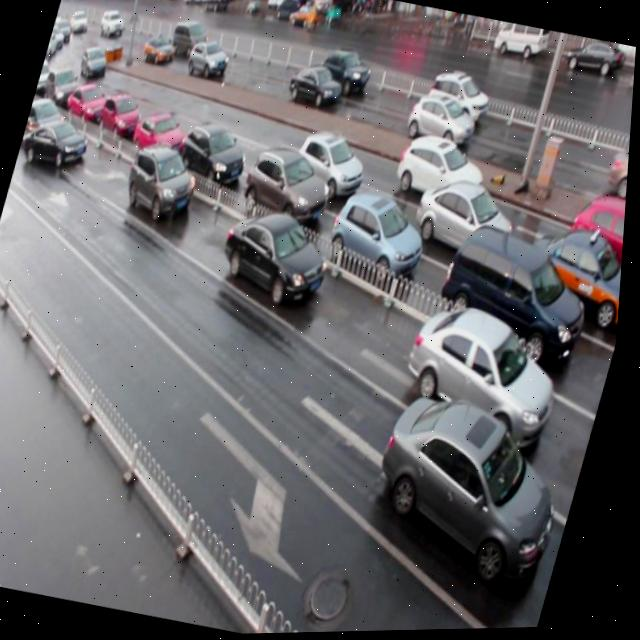car: (360, 383, 589, 595), (394, 295, 581, 461), (213, 199, 343, 317), (516, 224, 628, 341), (321, 187, 438, 298), (408, 172, 527, 277), (238, 140, 342, 235), (391, 129, 496, 220), (119, 139, 206, 229), (287, 125, 377, 206), (173, 118, 257, 195), (563, 190, 629, 286), (402, 91, 483, 158), (17, 111, 97, 177), (423, 69, 495, 132), (128, 104, 196, 169), (315, 47, 376, 100), (96, 88, 151, 145), (285, 63, 345, 114), (21, 95, 72, 153), (61, 76, 111, 132), (183, 37, 232, 86), (42, 62, 85, 113), (603, 142, 632, 211), (140, 31, 180, 68)
truck: (429, 217, 606, 382), (167, 19, 213, 64)
